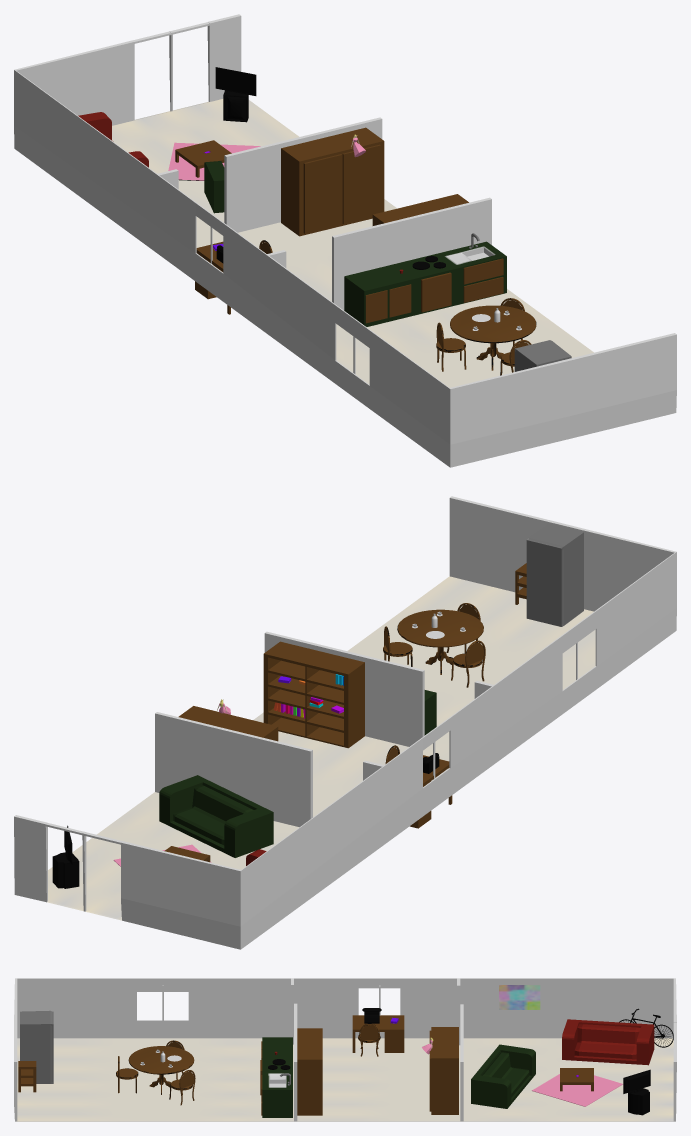
Rendered from Piece.glb.
3 views of the same model, one above another, from view 1: azimuth 30°, elevation 25°; view 2: azimuth 150°, elevation 25°; view 3: azimuth 270°, elevation 25° (orthographic). The views are drawn at different scales.
Visible parts, largest first — view 1: Cube, Armoire.001, Cuisine.001, Table.001, Tele, Frigo.001, Bibliotheque.001, Table basse.001, Canapé.001, Tapis; view 2: Cube, Bibliotheque.001, Canapé.001, Frigo.001, Table.001, Armoire.001, Tele; view 3: Cube, Canapé.002, Canapé.001, Cuisine.001, Armoire.001, Table.001, Bibliotheque.001, Frigo.001, Tapis, Table basse.002, Tableau, Tele (+5 smaller).
Boxes of the visible parts, x1=… form: Cube: x1=14, y1=14, x2=676, y2=467; Armoire.001: x1=281, y1=127, x2=384, y2=236; Cuisine.001: x1=344, y1=233, x2=506, y2=326; Table.001: x1=436, y1=298, x2=536, y2=375; Tele: x1=215, y1=67, x2=256, y2=122; Frigo.001: x1=514, y1=340, x2=571, y2=371; Bibliotheque.001: x1=372, y1=194, x2=468, y2=225; Table basse.001: x1=175, y1=140, x2=231, y2=177; Canapé.001: x1=204, y1=161, x2=224, y2=213; Tapis: x1=168, y1=142, x2=260, y2=180; Cube: x1=14, y1=496, x2=676, y2=949; Bibliotheque.001: x1=263, y1=641, x2=364, y2=748; Canapé.001: x1=159, y1=775, x2=273, y2=857; Frigo.001: x1=526, y1=524, x2=583, y2=626; Table.001: x1=383, y1=603, x2=485, y2=687; Armoire.001: x1=178, y1=706, x2=278, y2=741; Tele: x1=52, y1=825, x2=79, y2=888; Cube: x1=14, y1=978, x2=676, y2=1121; Canapé.002: x1=562, y1=1019, x2=654, y2=1065; Canapé.001: x1=471, y1=1044, x2=535, y2=1108; Cuisine.001: x1=260, y1=1037, x2=292, y2=1117; Armoire.001: x1=429, y1=1027, x2=458, y2=1114; Table.001: x1=116, y1=1040, x2=195, y2=1105; Bibliotheque.001: x1=297, y1=1028, x2=322, y2=1115; Frigo.001: x1=20, y1=1010, x2=53, y2=1083; Tapis: x1=532, y1=1074, x2=622, y2=1106; Table basse.002: x1=352, y1=1015, x2=404, y2=1052; Tableau: x1=499, y1=985, x2=540, y2=1009; Tele: x1=623, y1=1069, x2=650, y2=1115.
Size of what is drawn, in the model's own units: 6.03 by 2.51 by 20.2.
Materials: 8 (1 with a texture image).
